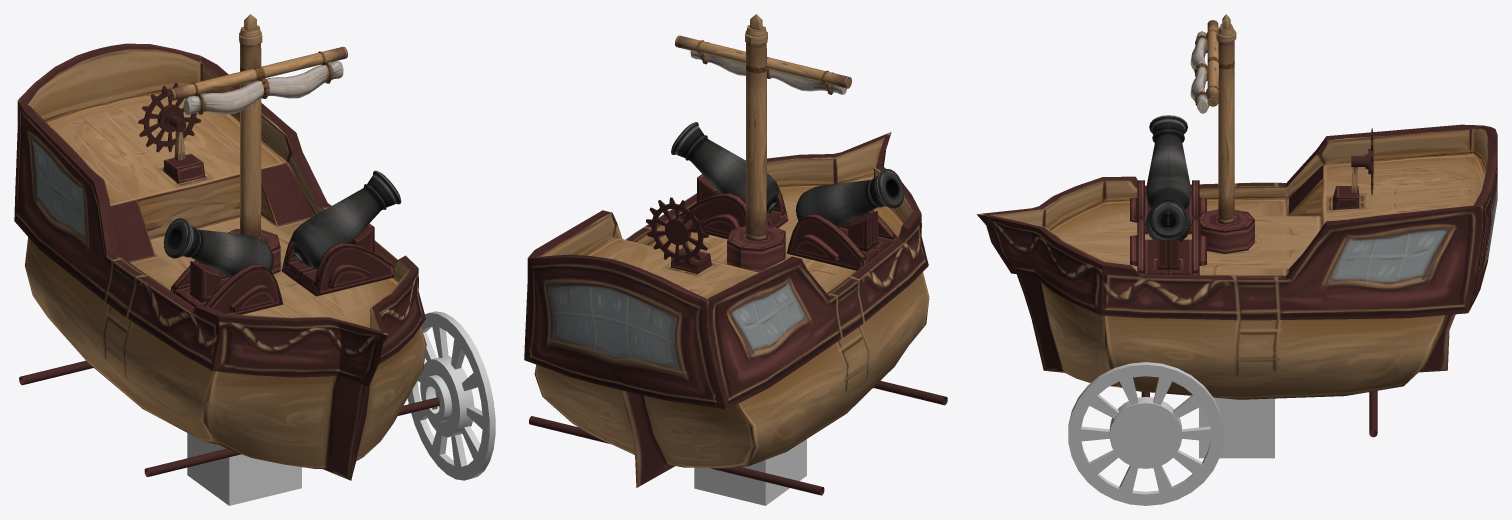
File: Ship_01r.fbx
3 renders of one model, left to right at view 1: azimuth 30°, elevation 25°; view 2: azimuth 150°, elevation 25°; view 3: azimuth 270°, elevation 25°, orthographic. The views are drawn at different scales.
Parts seen in each view (by area): view 1: pCylinder15, pCylinder2, Cube; view 2: pCylinder15, Cube; view 3: pCylinder15, pCylinder2, Cube.
Boxes of the visible parts, x1,y1,x2,y2 form: pCylinder15: (14, 14, 439, 480); pCylinder2: (407, 311, 495, 480); Cube: (187, 433, 301, 505); pCylinder15: (524, 14, 947, 495); Cube: (694, 439, 806, 505); pCylinder15: (977, 14, 1497, 437); pCylinder2: (1068, 362, 1223, 505); Cube: (1199, 397, 1274, 458).
Bounding box in the file's own units: 847 × 1242 × 1369.
